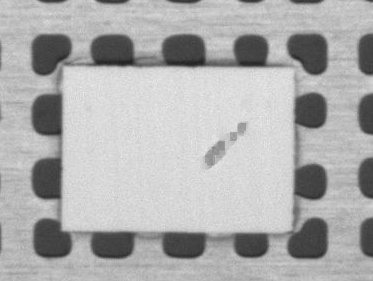DIE_INK: (201, 120, 247, 173)
